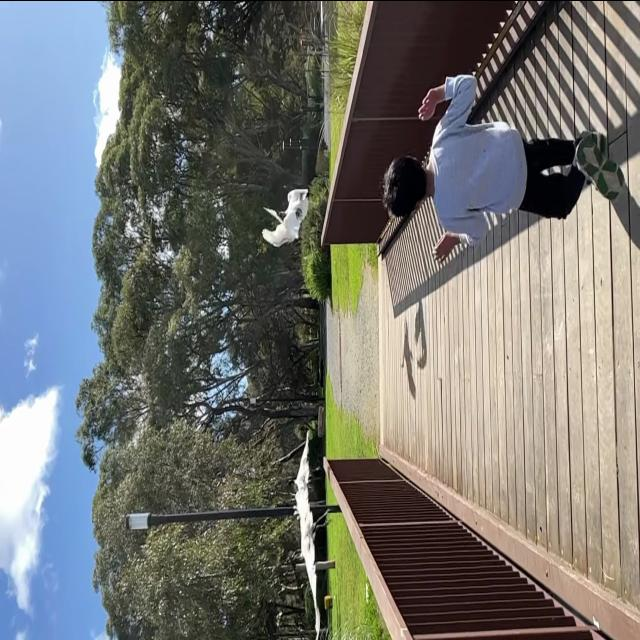Birds-Ibis: (296, 482, 331, 640), (289, 427, 321, 542), (260, 206, 304, 248), (278, 187, 312, 219)
